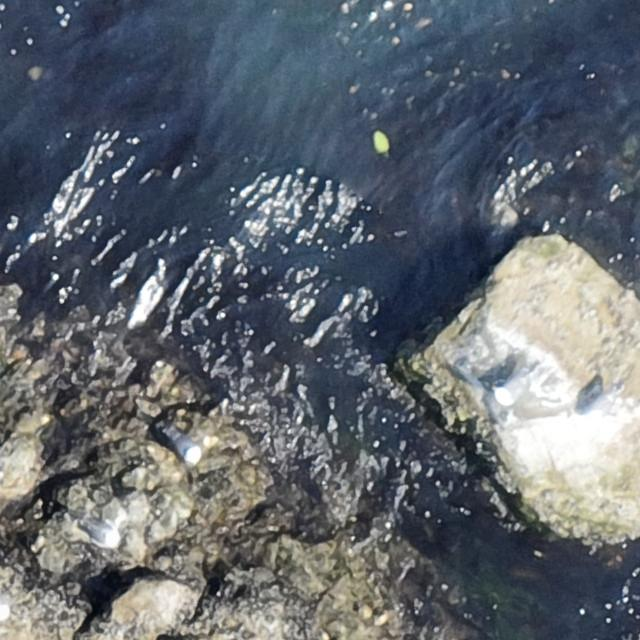umineko: (162, 422, 204, 464), (581, 388, 618, 432), (494, 369, 532, 407), (82, 518, 122, 551)
